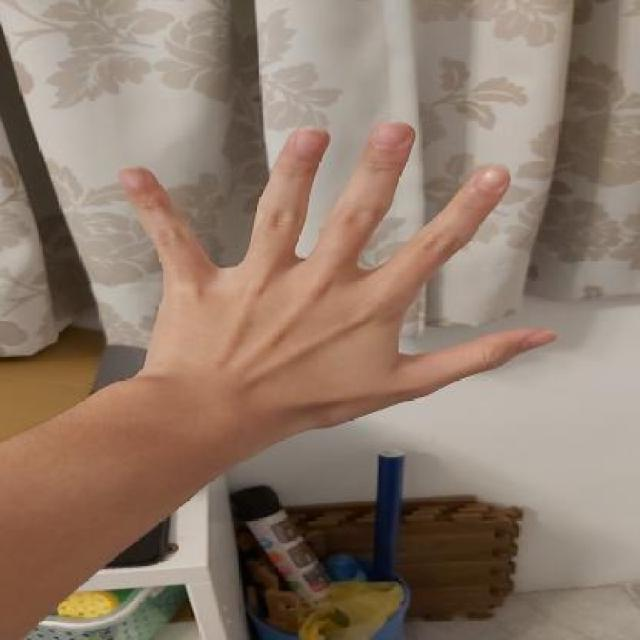bare_hand: (100, 110, 576, 447)
